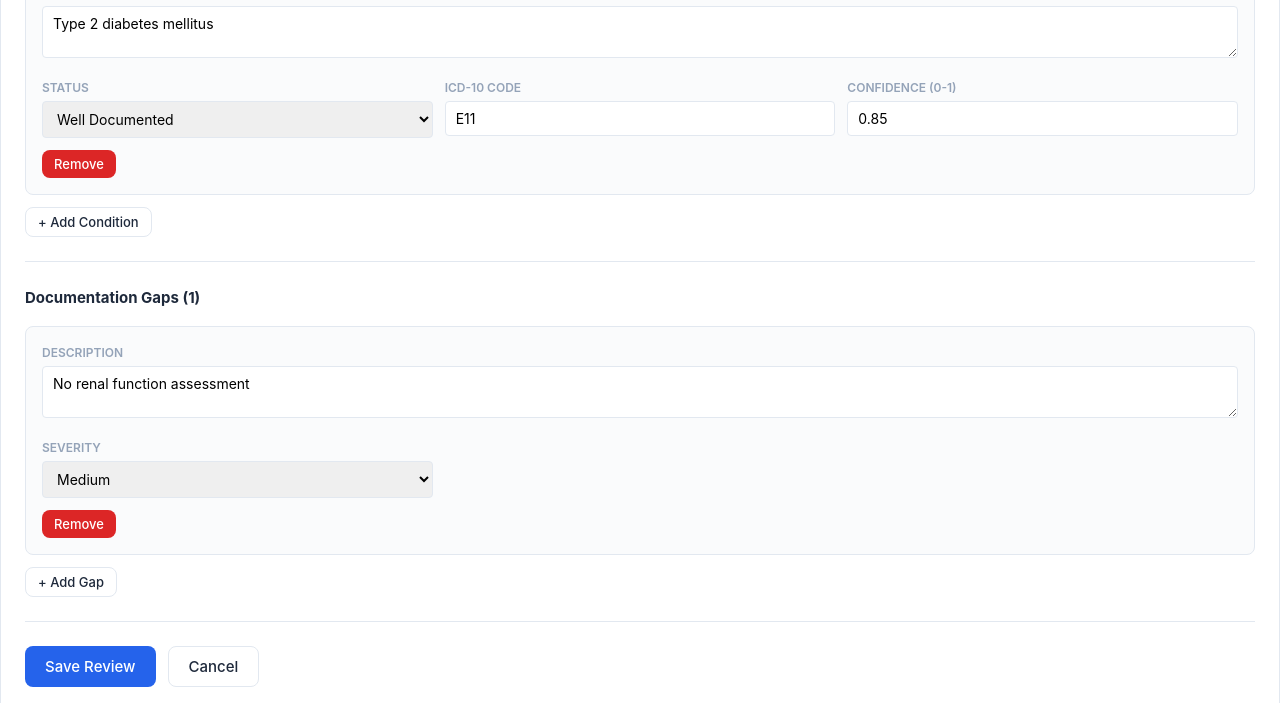
Test: ReviewEditor › allows adding a new gap
(page scrolled)
Click the button "+ Add Gap" at (71, 582), box [25,567,117,597]
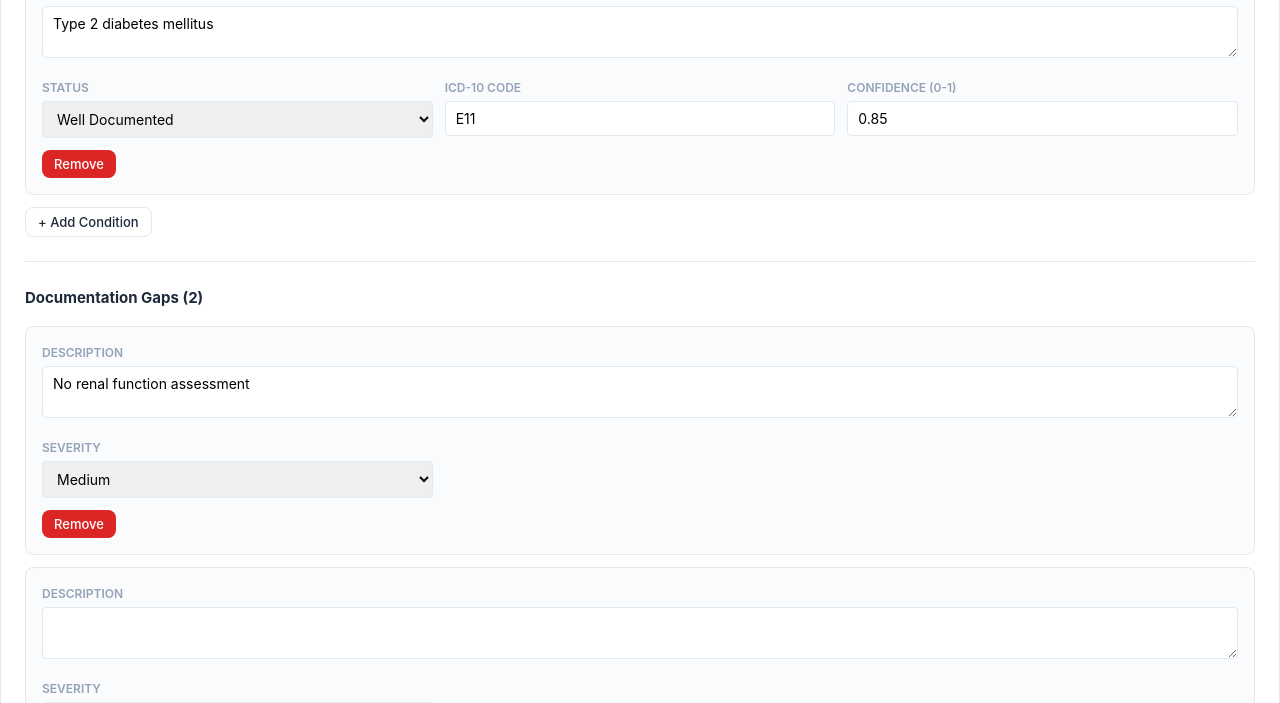
Now the heading "Documentation Gaps (2)" is shown, box [25,288,203,307]
